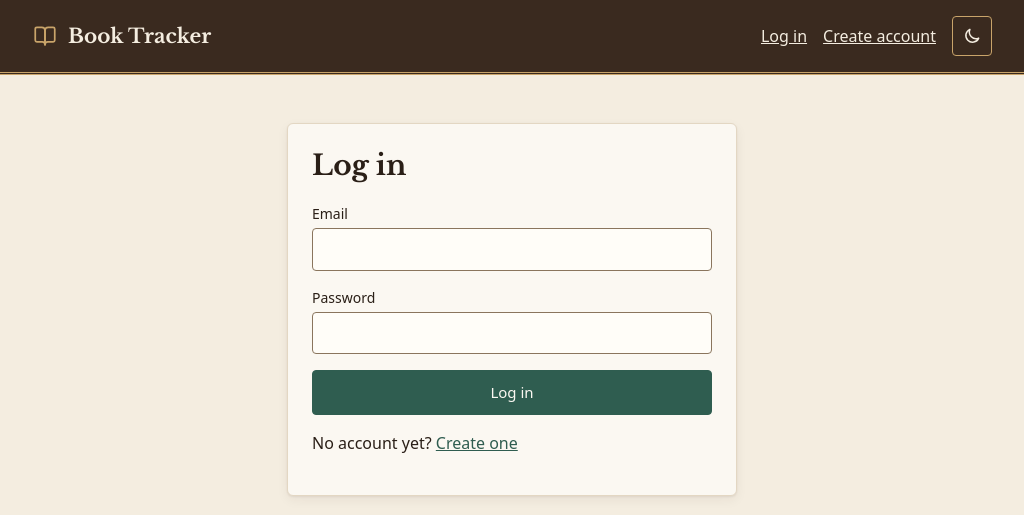
Scenario: login › logs in, stores the token and shows the home page with the user email
The width and height of the screenshot is (1024, 515).
Type "ann@example.com" into the field labelled "Email".
click(512, 249); type("ann@example.com")  # box x1=312 y1=228 x2=712 y2=270
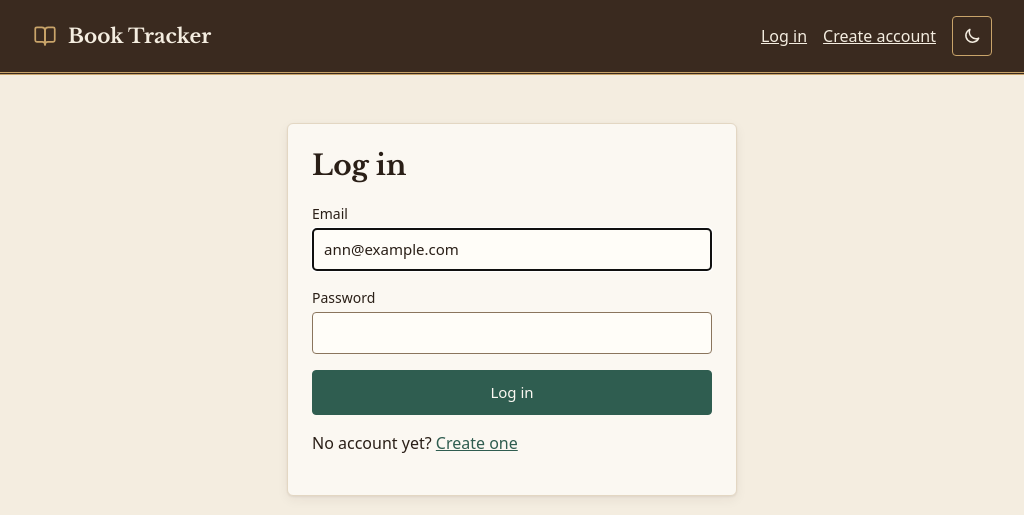
Type "correct horse battery" into the password field labelled "Password".
click(512, 333); type("correct horse battery")  # box x1=312 y1=312 x2=712 y2=354
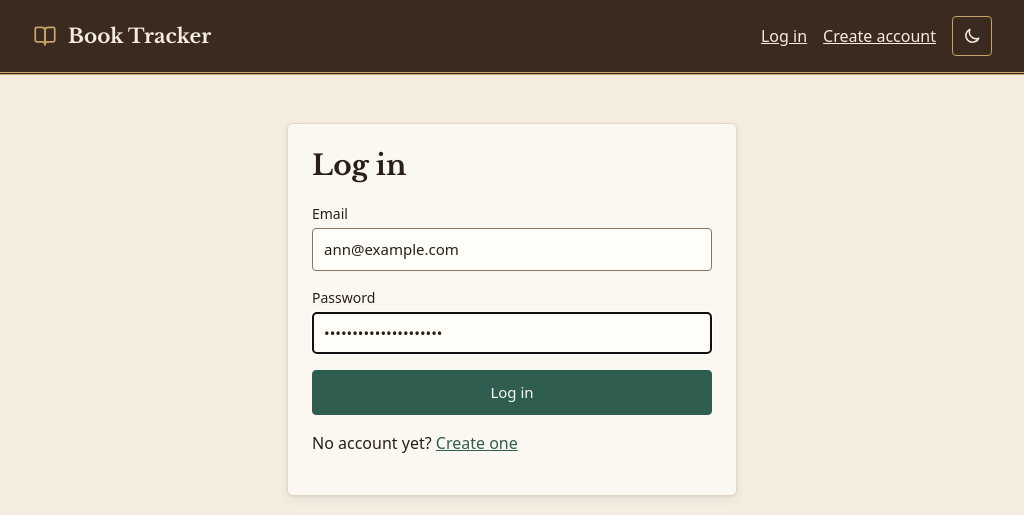
Click the button "Log in".
click(512, 392)  # box x1=312 y1=370 x2=712 y2=414
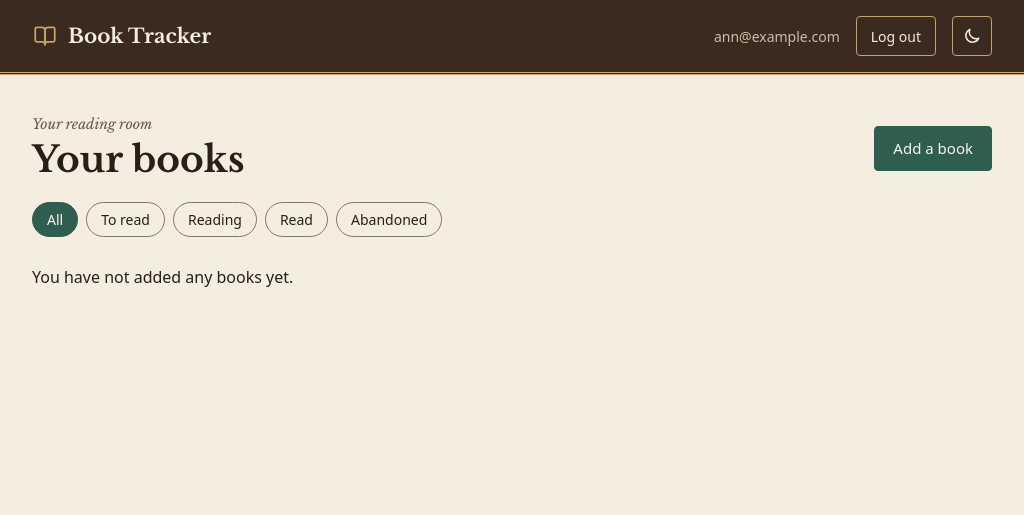
Check: the heading "Your books" is shown, box x1=32 y1=137 x2=244 y2=182
Check: the text "ann@example.com" is shown, box x1=714 y1=26 x2=840 y2=46
